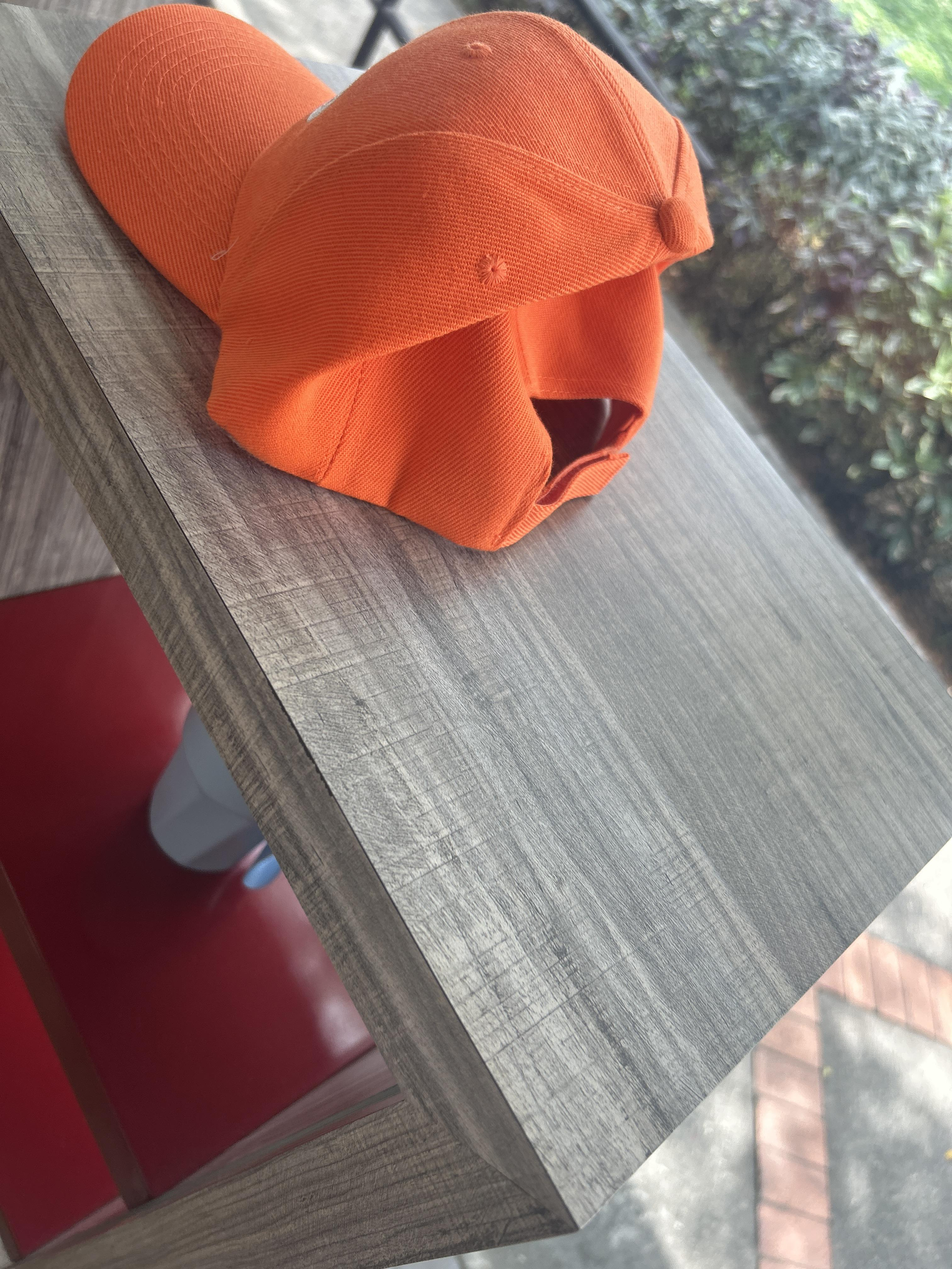gorra: (65, 5, 712, 550)
